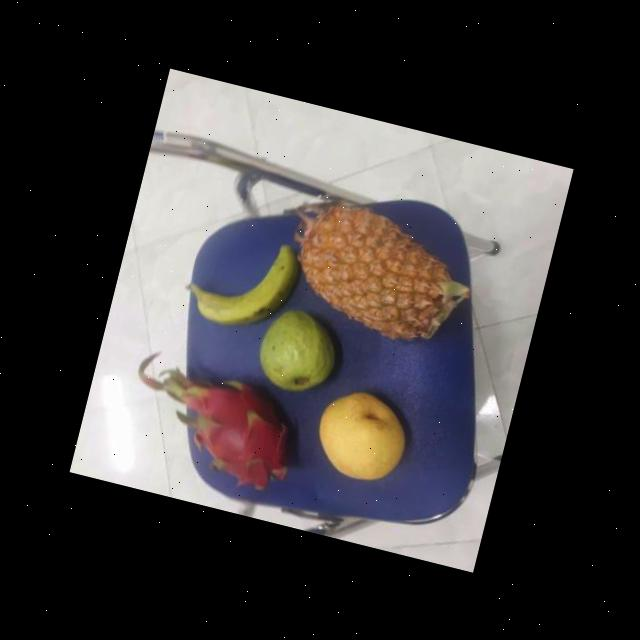guava: (248, 299, 348, 400)
pear: (306, 377, 414, 491)
pineapple: (277, 182, 481, 349)
pitaya: (164, 366, 310, 492)
